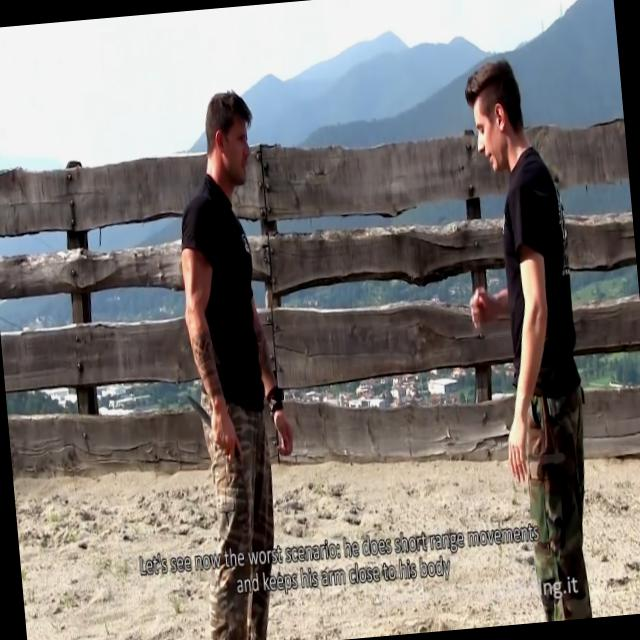knife: (182, 386, 244, 469)
